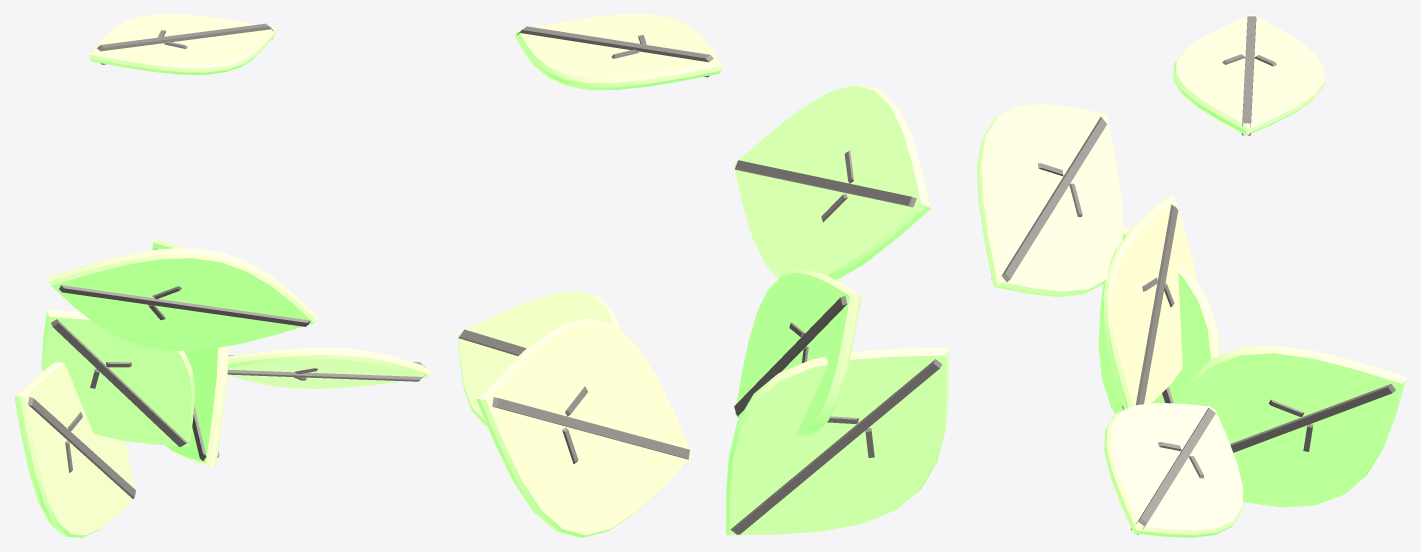
File: vfx-mesh-library-falling-leaf-cluster-f2130df5.glb
3 views of the same model, side by side, from view 1: azimuth 30°, elevation 25°; view 2: azimuth 150°, elevation 25°; view 3: azimuth 270°, elevation 25° (orthographic). The views are drawn at different scales.
Parts seen in each view (by area): view 1: falling-leaf-cluster; view 2: falling-leaf-cluster; view 3: falling-leaf-cluster.
Part boxes in pixels (x1,y1,x2,y2): falling-leaf-cluster: (14, 14, 429, 537); falling-leaf-cluster: (458, 14, 948, 537); falling-leaf-cluster: (977, 14, 1406, 537).
Bounding box in the file's own units: 0.907 × 0.9009 × 0.7534.
